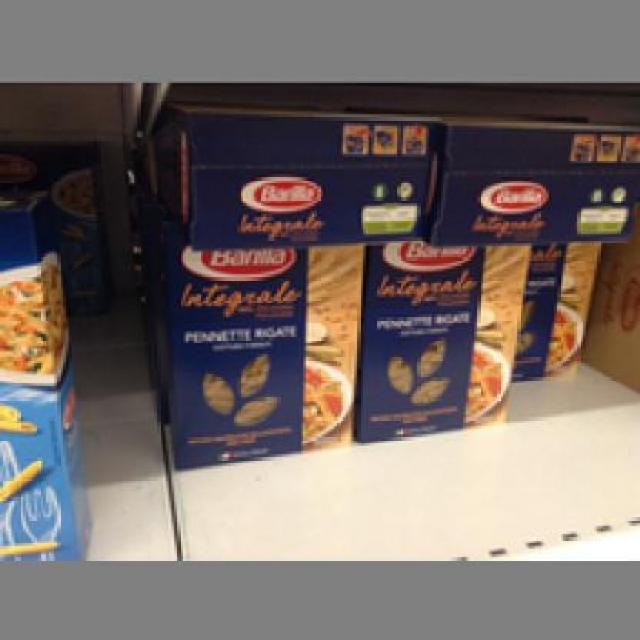Pasta: (157, 220, 360, 469), (354, 240, 532, 443)
